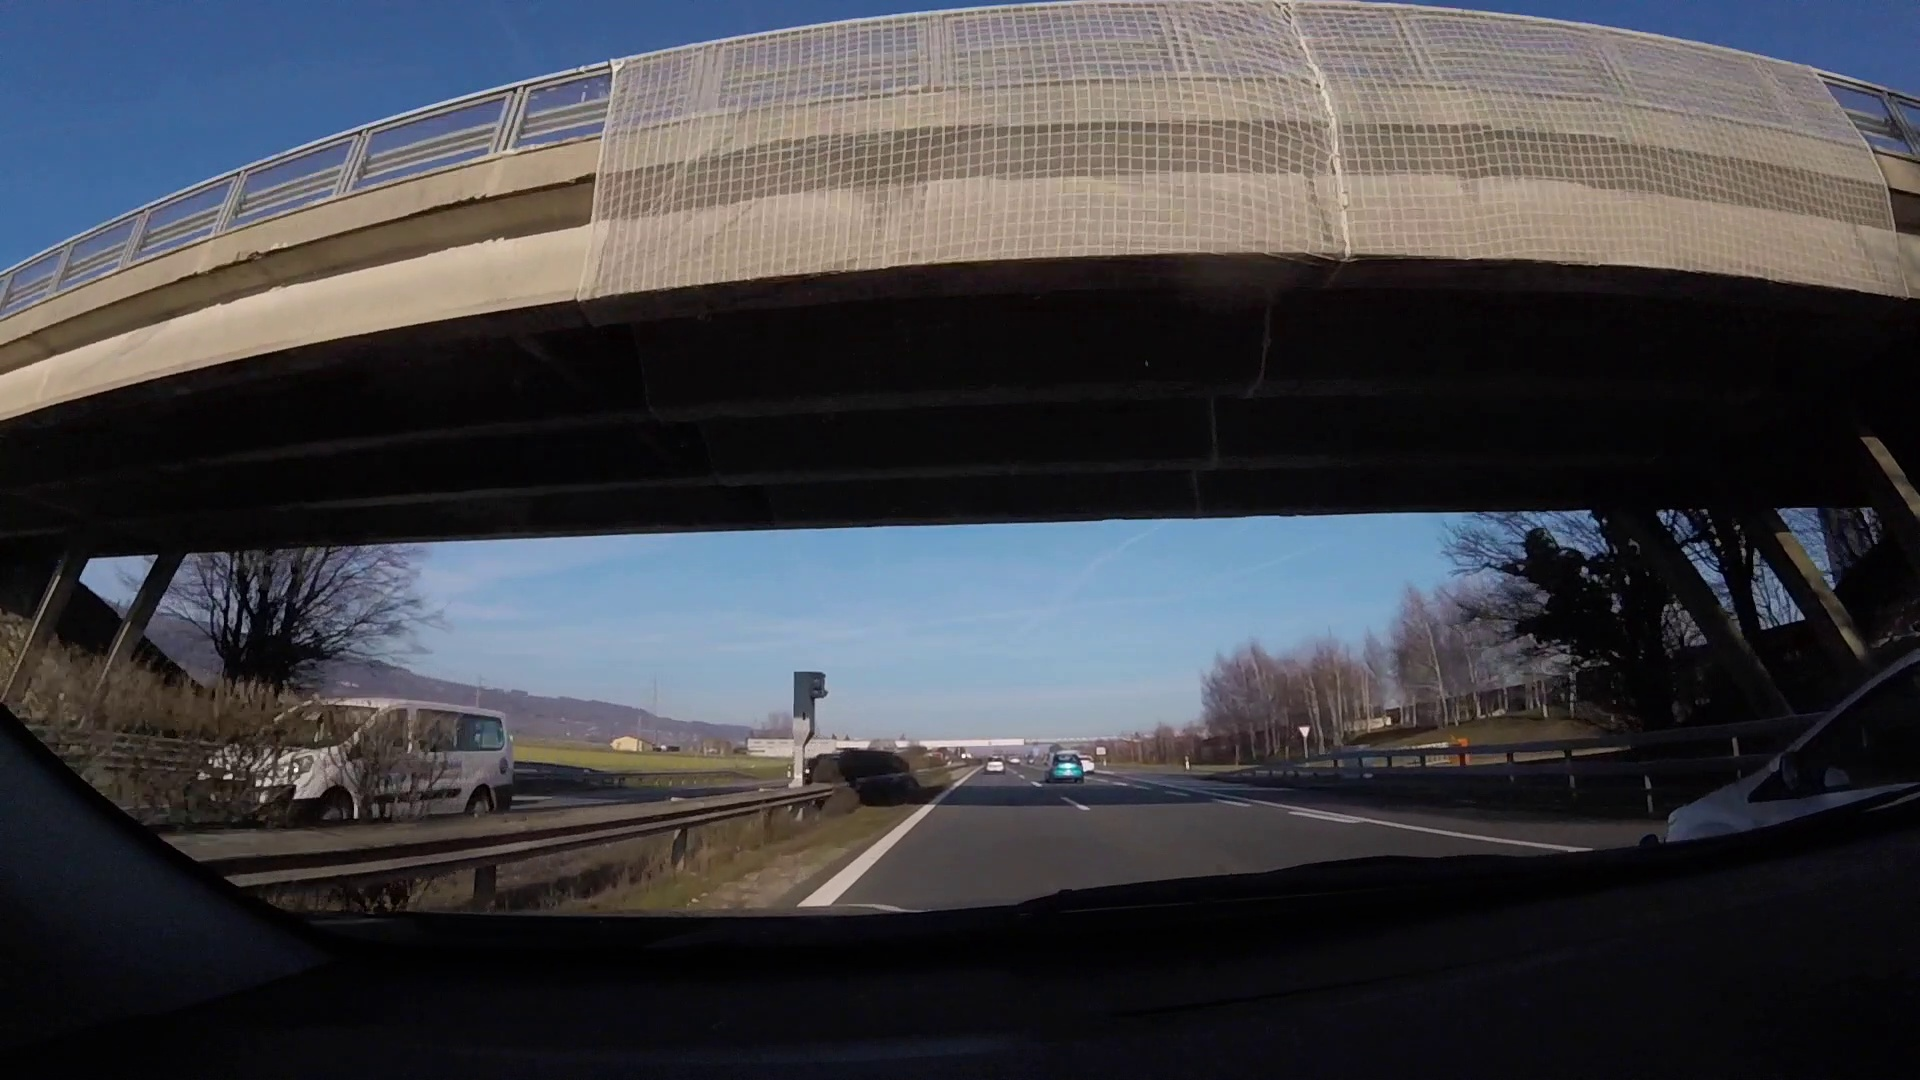radar: (790, 669, 829, 779)
